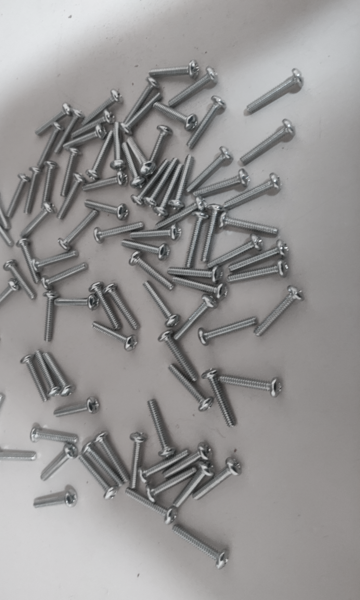longscrew: (176, 97, 224, 155), (241, 119, 295, 169), (173, 525, 229, 571), (248, 70, 304, 116), (259, 286, 303, 343), (167, 364, 214, 410), (125, 158, 170, 206), (173, 462, 215, 513), (225, 177, 281, 215), (206, 235, 265, 271), (186, 151, 232, 197), (228, 243, 290, 277), (162, 70, 217, 107), (175, 296, 216, 345), (194, 458, 240, 501), (124, 487, 176, 525), (156, 332, 197, 380), (118, 76, 159, 124), (202, 369, 235, 428), (151, 160, 185, 217), (136, 281, 180, 325), (194, 170, 247, 205), (144, 158, 179, 211), (121, 91, 164, 134), (60, 208, 99, 255), (229, 259, 290, 289), (200, 317, 259, 348), (81, 130, 116, 181), (140, 447, 188, 484), (146, 466, 194, 503), (161, 442, 209, 479), (136, 127, 172, 176), (78, 457, 118, 501), (84, 443, 124, 487), (155, 198, 205, 233), (90, 436, 130, 479), (165, 152, 194, 211), (143, 99, 201, 128), (130, 253, 172, 293), (78, 87, 122, 125), (105, 284, 141, 330), (180, 211, 207, 271), (215, 375, 283, 398), (199, 203, 225, 263), (92, 322, 140, 353), (53, 108, 84, 156), (39, 263, 89, 292), (220, 215, 283, 238), (43, 352, 75, 396), (148, 400, 173, 456), (57, 172, 85, 222), (33, 159, 61, 209), (88, 283, 119, 328), (69, 109, 114, 139), (35, 102, 71, 139), (16, 167, 43, 216), (96, 220, 145, 246), (15, 206, 52, 240), (58, 145, 82, 197), (172, 275, 228, 297), (43, 447, 76, 484), (37, 119, 60, 172), (122, 137, 154, 175), (122, 139, 146, 189), (3, 261, 36, 297), (148, 60, 202, 82), (4, 175, 30, 220), (20, 358, 47, 401), (34, 351, 59, 396), (128, 225, 184, 245), (17, 239, 39, 287), (65, 127, 105, 153), (81, 175, 128, 197), (34, 250, 78, 273), (119, 240, 169, 260), (52, 399, 98, 420), (127, 433, 144, 488), (79, 200, 129, 218), (108, 117, 124, 172), (168, 265, 222, 281), (33, 492, 78, 511), (52, 295, 102, 312), (41, 293, 57, 342), (31, 430, 78, 444), (0, 282, 17, 317), (0, 210, 14, 248), (0, 450, 37, 464), (0, 190, 12, 228), (0, 391, 3, 440)
